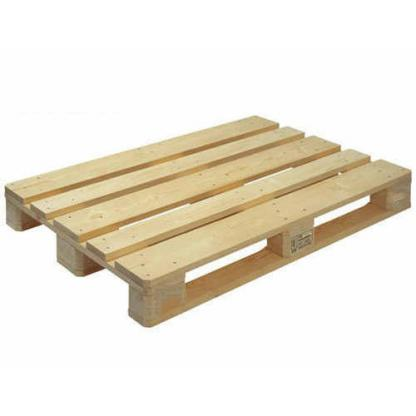BoxFace: (4, 112, 413, 331)
